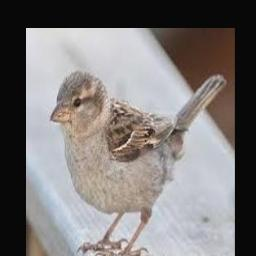Sparrow: (50, 70, 227, 256)
